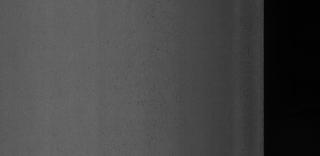silk spot: (112, 36, 178, 122)
